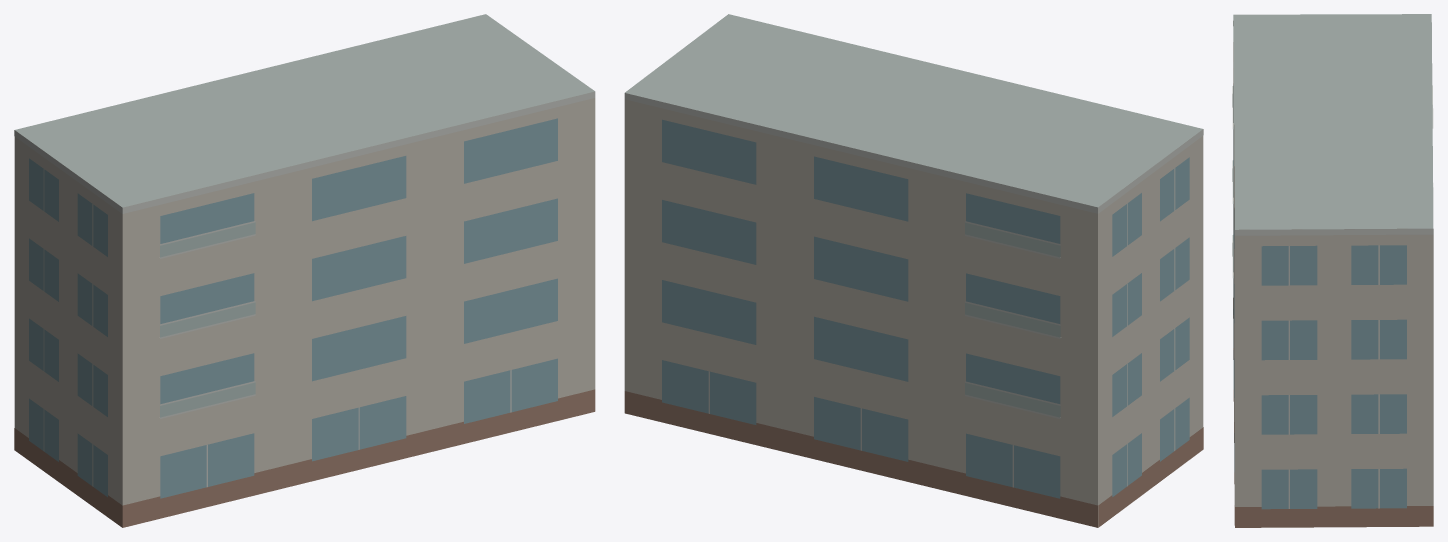
The model's file is survey-upis-33027219.glb.
The picture shows the model from 3 angles, left to right: view 1: azimuth 30°, elevation 25°; view 2: azimuth 150°, elevation 25°; view 3: azimuth 270°, elevation 25°; orthographic projection. The views are drawn at different scales.
Visible parts, largest first — view 1: survey-upis-33027219.tmp; view 2: survey-upis-33027219.tmp; view 3: survey-upis-33027219.tmp.
Part boxes in pixels (x1=…): survey-upis-33027219.tmp: x1=14, y1=14, x2=595, y2=527; survey-upis-33027219.tmp: x1=624, y1=14, x2=1203, y2=527; survey-upis-33027219.tmp: x1=1232, y1=14, x2=1433, y2=527.
Bounding box in the file's own units: 18.95 × 12.2 × 7.47.
